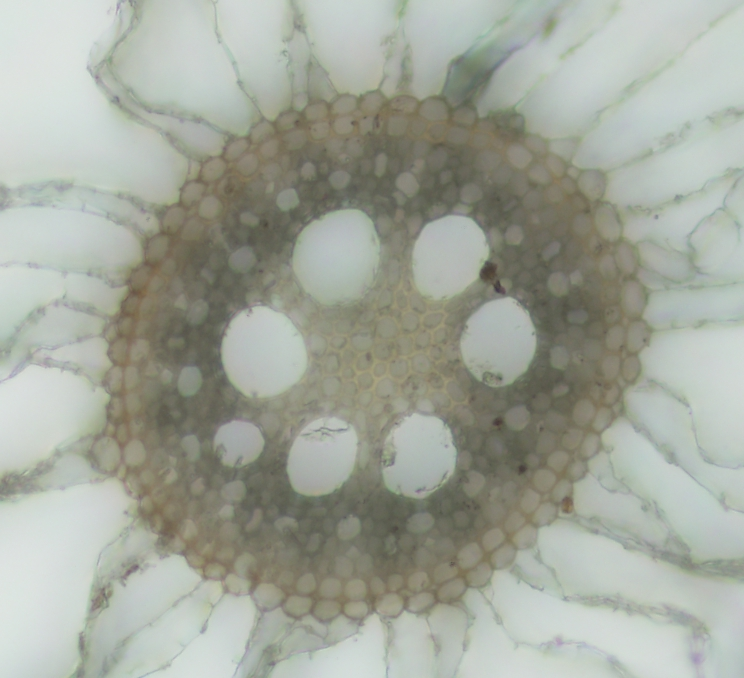lm: (291, 207, 382, 308), (220, 304, 307, 399), (460, 295, 538, 387), (379, 409, 458, 499), (409, 213, 489, 301), (285, 414, 359, 496), (212, 418, 264, 467)
